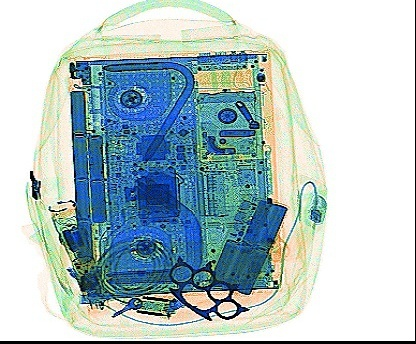powerbank: (207, 191, 289, 296)
